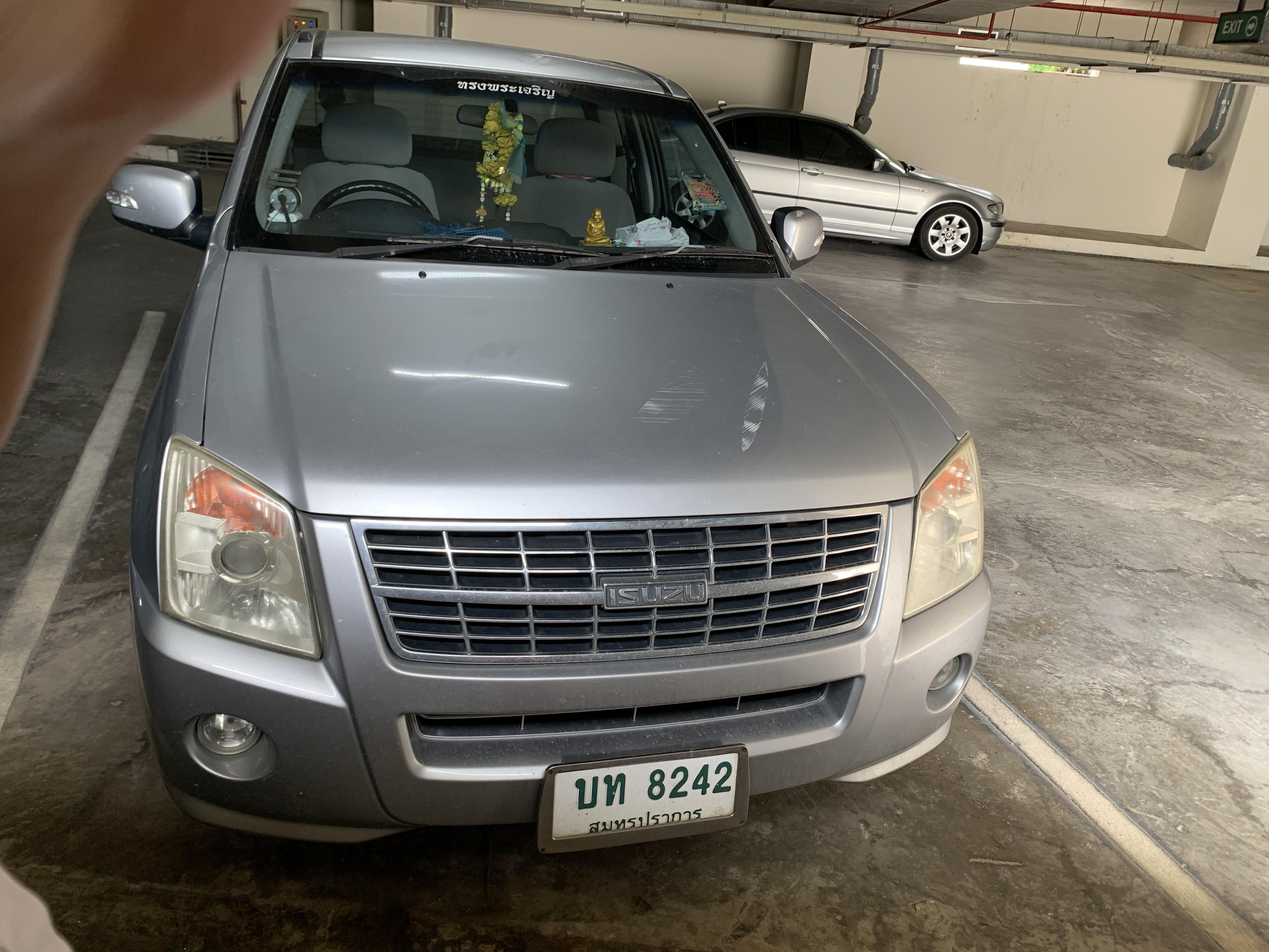license-plate: (536, 741, 756, 854)
